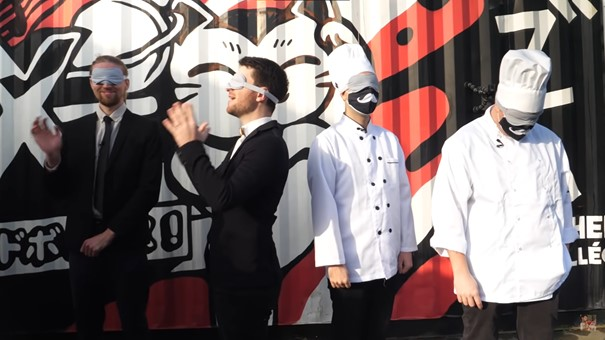with_mask: (335, 74, 384, 118), (495, 99, 539, 146)
without_mask: (226, 63, 278, 118), (89, 59, 132, 108)
